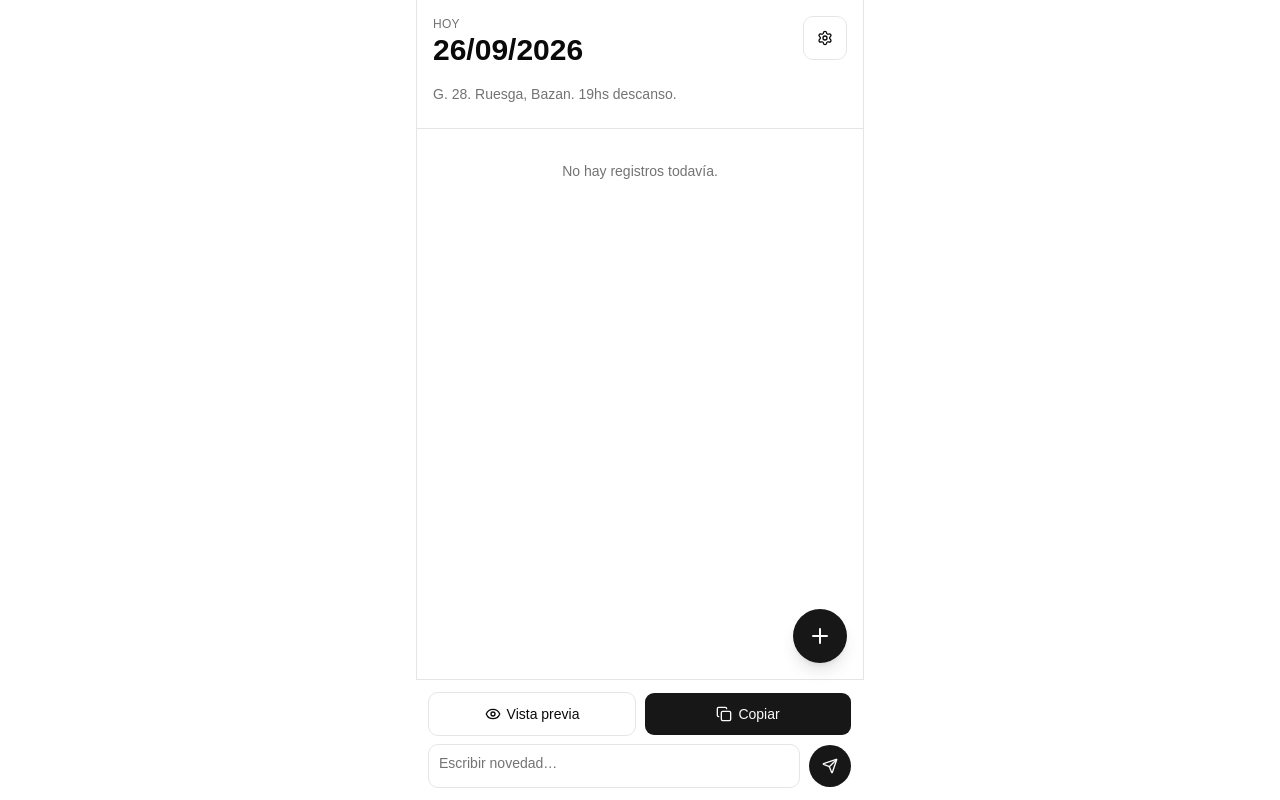
Test case: App — Today screen › quick bar: typing text and pressing Enter adds a free entry, visible in the list and the preview
Check: the heading "26/09/2026" is shown, box [433,32,583,68]
In the text box labelled "Escribir novedad…": (614, 766) [428,744,800,788], type "Corte de luz en la cuadra"
Then press Enter
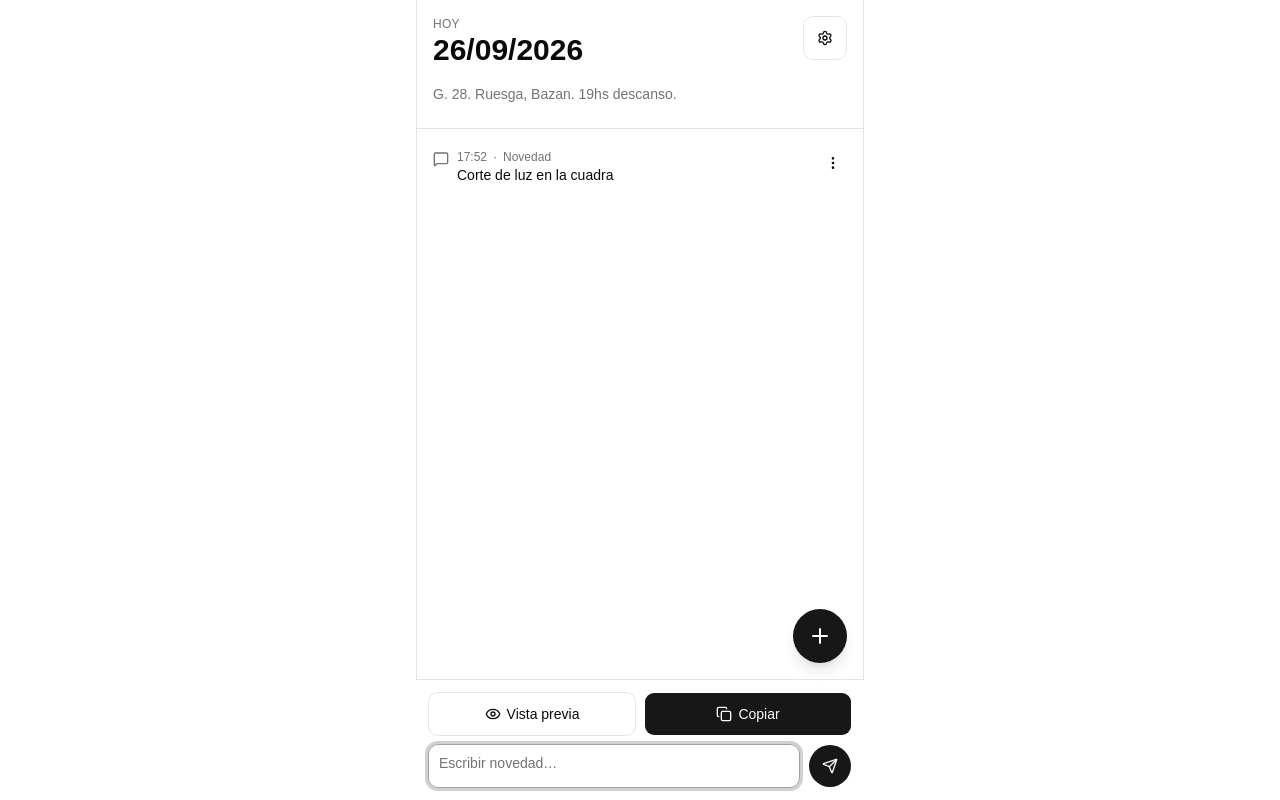
Check: the text "Corte de luz en la cuadra" is shown, box [457,167,613,183]
Click the button "Vista previa": click(532, 714) [428,692,636,736]
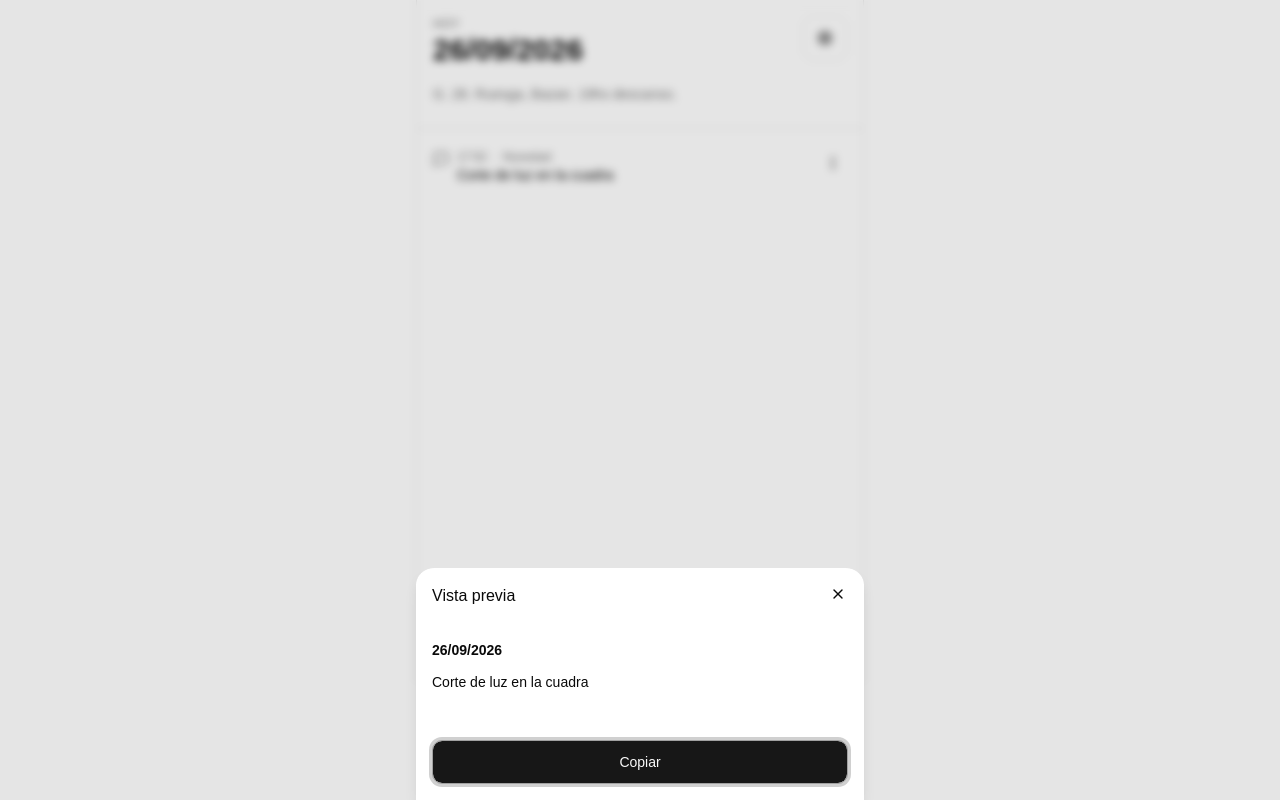
Check: the text "Corte de luz en la cuadra" is shown, box [432,674,588,690]
Press Escape
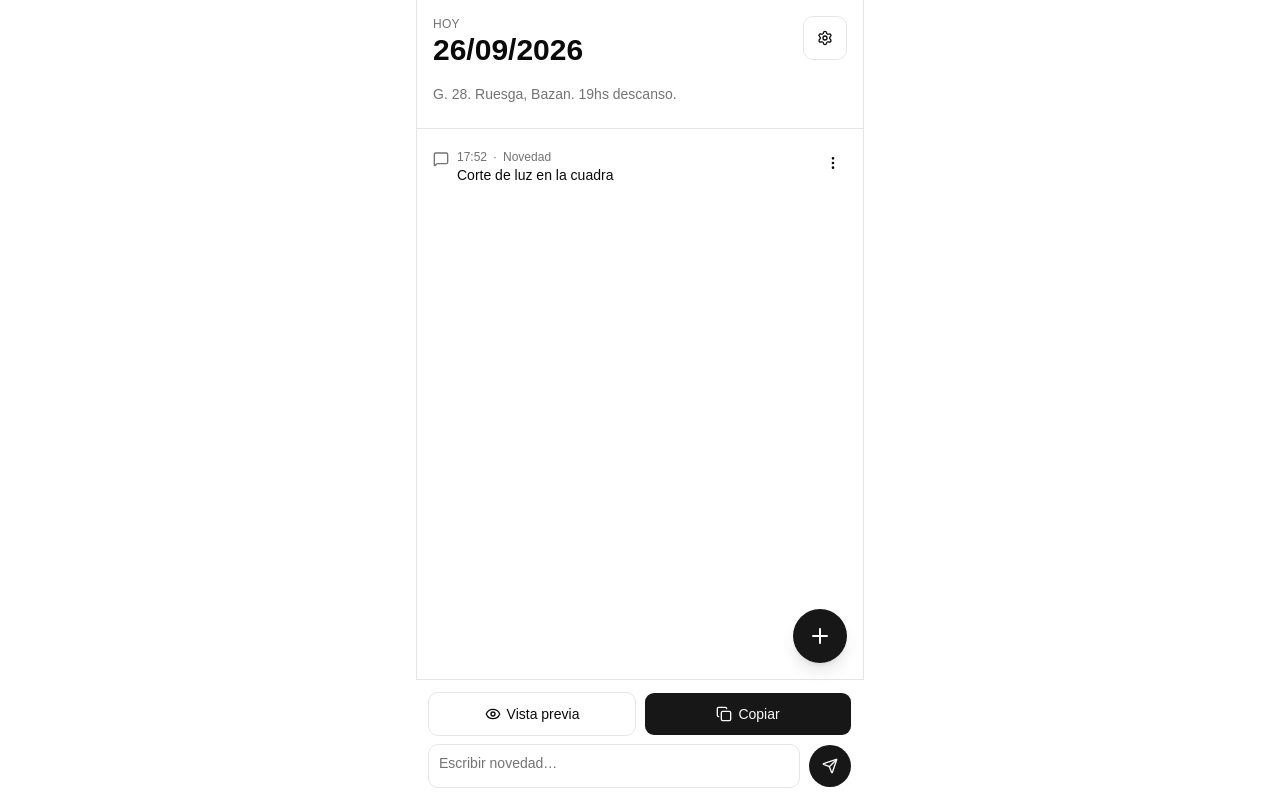
Check: the dialog is gone
